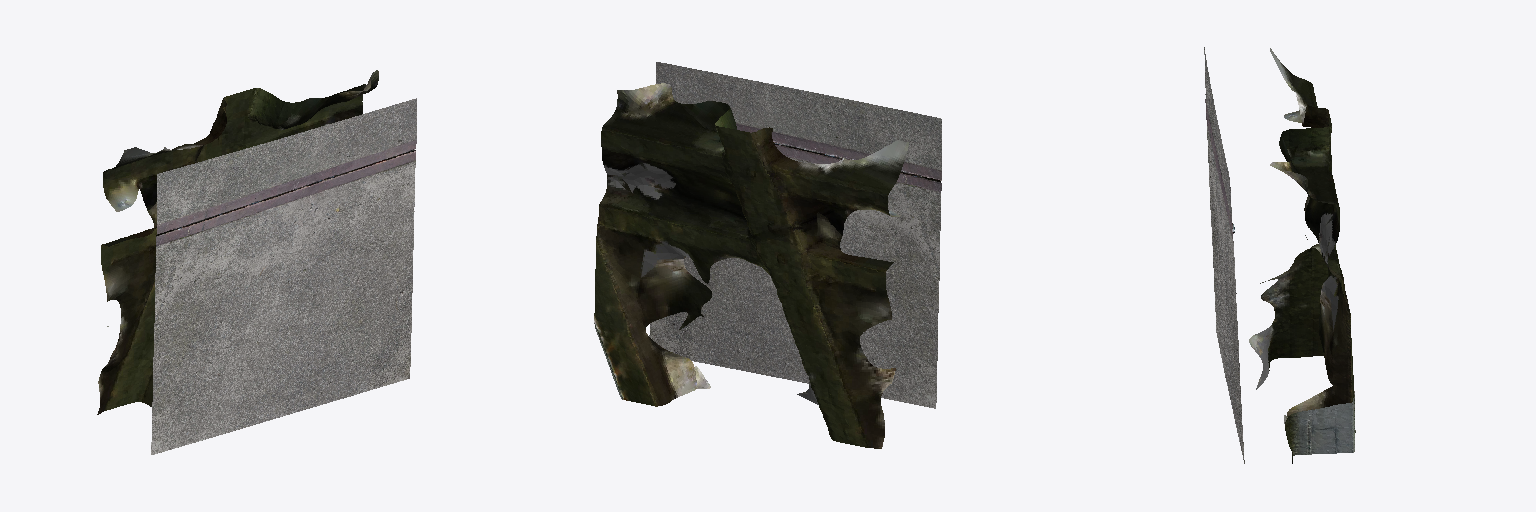
The picture shows the model from 3 angles: view 1: azimuth 30°, elevation 25°; view 2: azimuth 150°, elevation 25°; view 3: azimuth 270°, elevation 25°; orthographic projection.
Size of the model in its own units: 3.03 by 3.03 by 1.45.
2 materials, 1 textured.